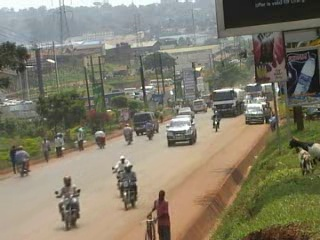Car: (165, 115, 199, 148), (173, 104, 195, 122)
Motorcycle: (50, 172, 84, 231), (116, 161, 140, 210), (111, 151, 133, 192), (12, 144, 33, 178), (121, 120, 136, 146), (92, 127, 107, 150), (209, 108, 223, 132), (143, 117, 155, 140)
